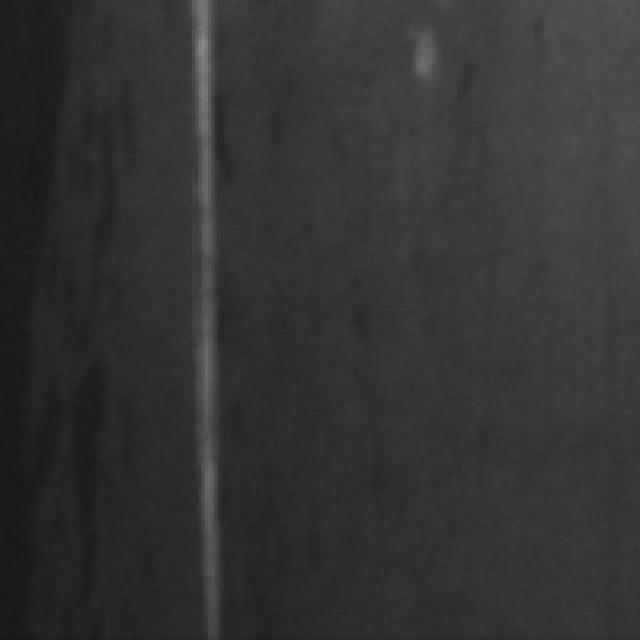scratches: (182, 0, 240, 634)
